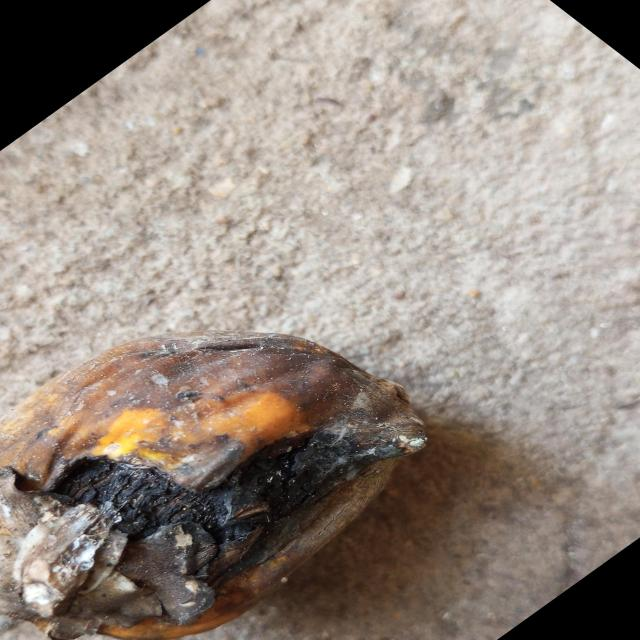damaged: (0, 334, 429, 640)
